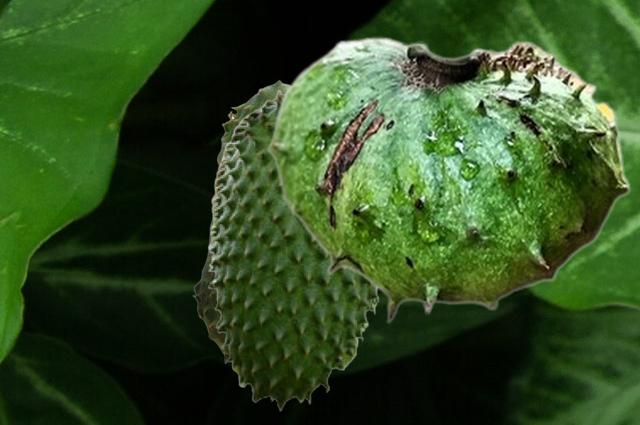guyabano: (267, 36, 630, 323), (207, 89, 380, 410), (192, 79, 288, 360)
